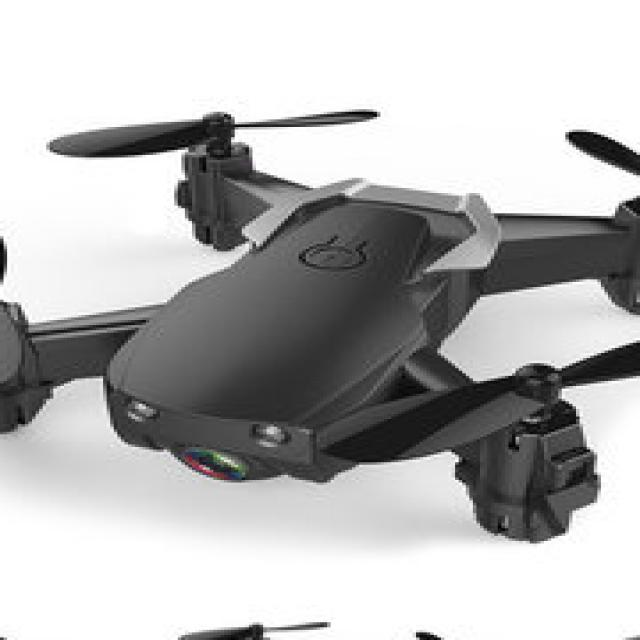drone: (0, 91, 640, 562)
